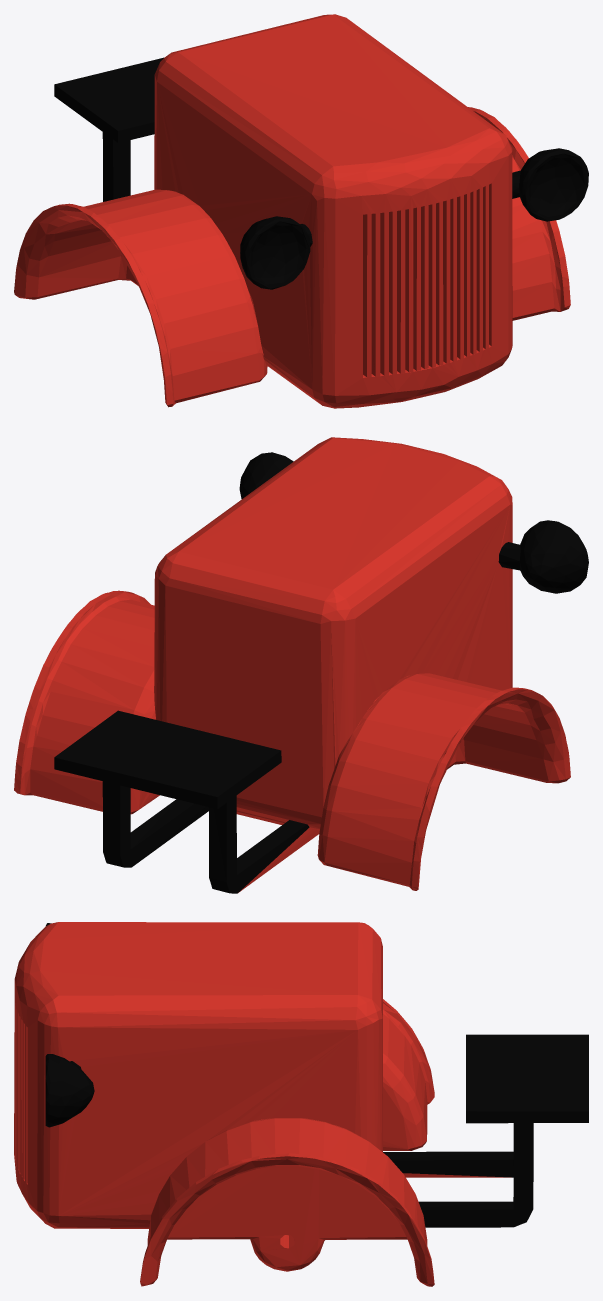
3 views of the same model, one above another, from view 1: azimuth 30°, elevation 25°; view 2: azimuth 150°, elevation 25°; view 3: azimuth 270°, elevation 25° (orthographic). The views are drawn at different scales.
Visible parts, largest first — view 1: goofyahh_tractor.002; view 2: goofyahh_tractor.002; view 3: goofyahh_tractor.002.
Part boxes in pixels (box(x1,y1,x2,y2)): goofyahh_tractor.002: box(14, 14, 588, 408); goofyahh_tractor.002: box(14, 437, 588, 893); goofyahh_tractor.002: box(14, 922, 588, 1286).
Bounding box in the file's own units: 0.9715 × 0.6428 × 1.24.
Materials: 1 (1 with a texture image).
